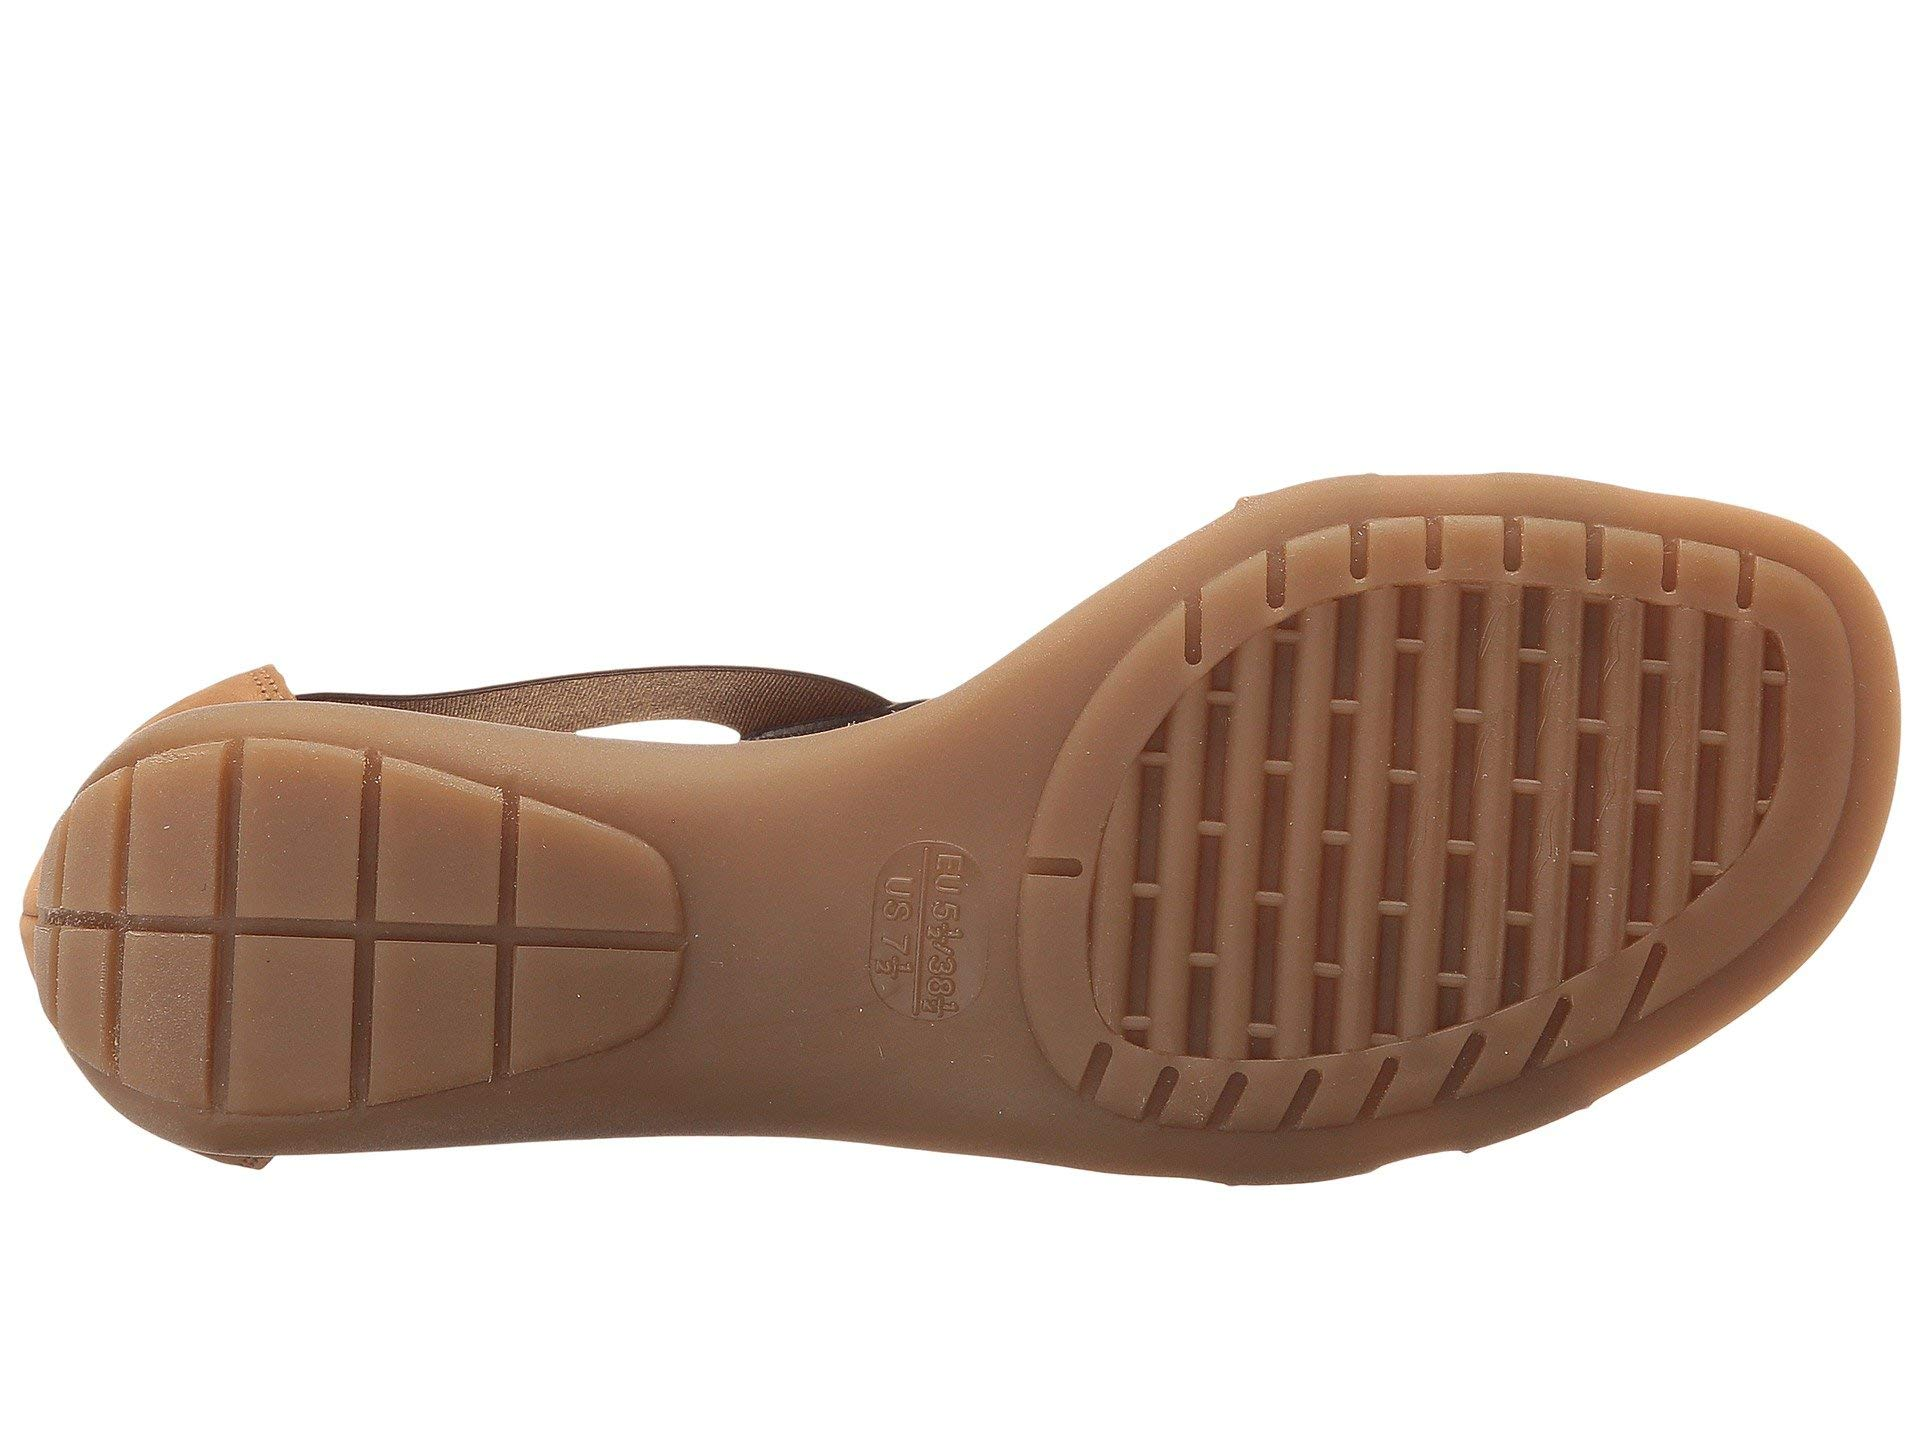circle: (801, 806, 1002, 1065)
line: (1167, 549, 1695, 1009), (801, 806, 1002, 1065)
quad: (135, 737, 708, 1103)
text: (801, 806, 1002, 1065)
